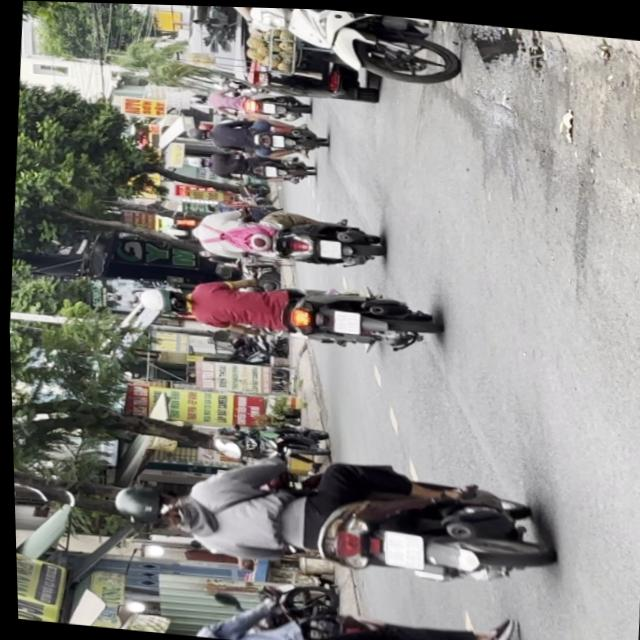helmet: (106, 482, 182, 528), (135, 284, 188, 316), (157, 221, 194, 242)
licenseplate: (100, 436, 551, 594), (131, 264, 439, 358), (152, 196, 383, 274)
nohelmet: (377, 527, 421, 567), (330, 308, 358, 333), (316, 239, 338, 256)
